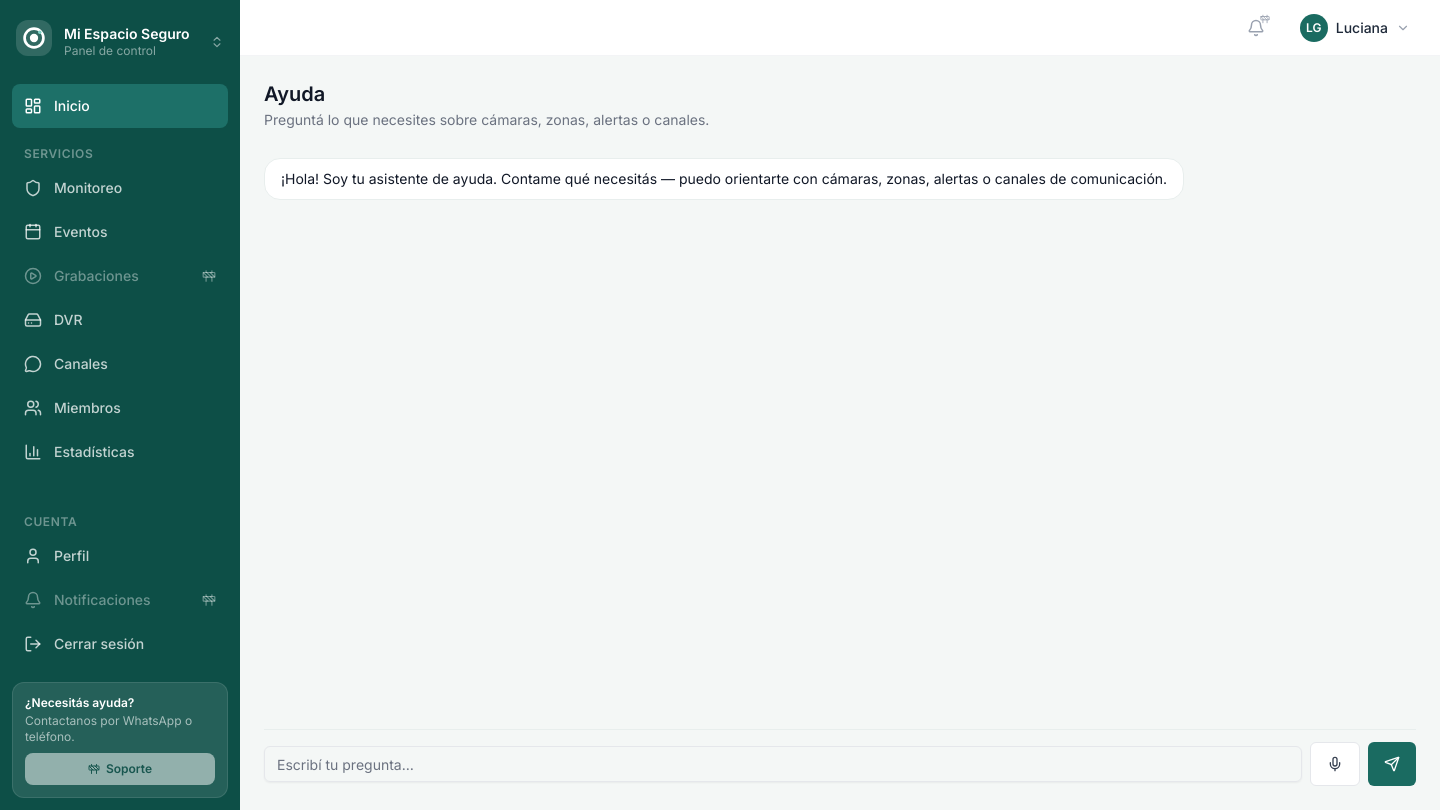
Test: HelpChatPage › sends the mapped conversation without the greeting
This screenshot has width=1440, height=810.
In the field named "Mensaje": (783, 764) [264, 746, 1302, 782], type "¿Cómo configuro una zona?"
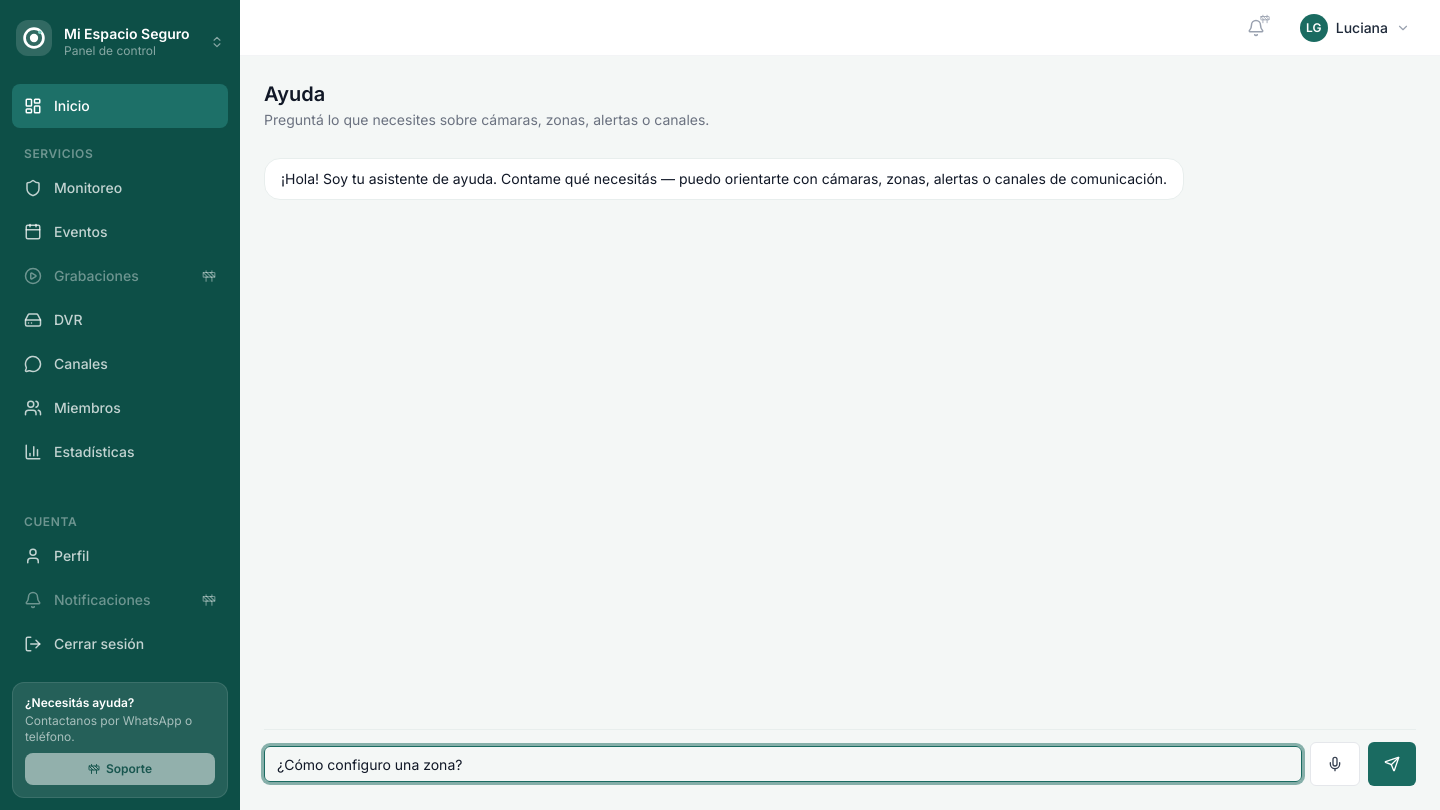
Click the 2nd button named "Enviar": (1392, 764) [1368, 742, 1416, 786]
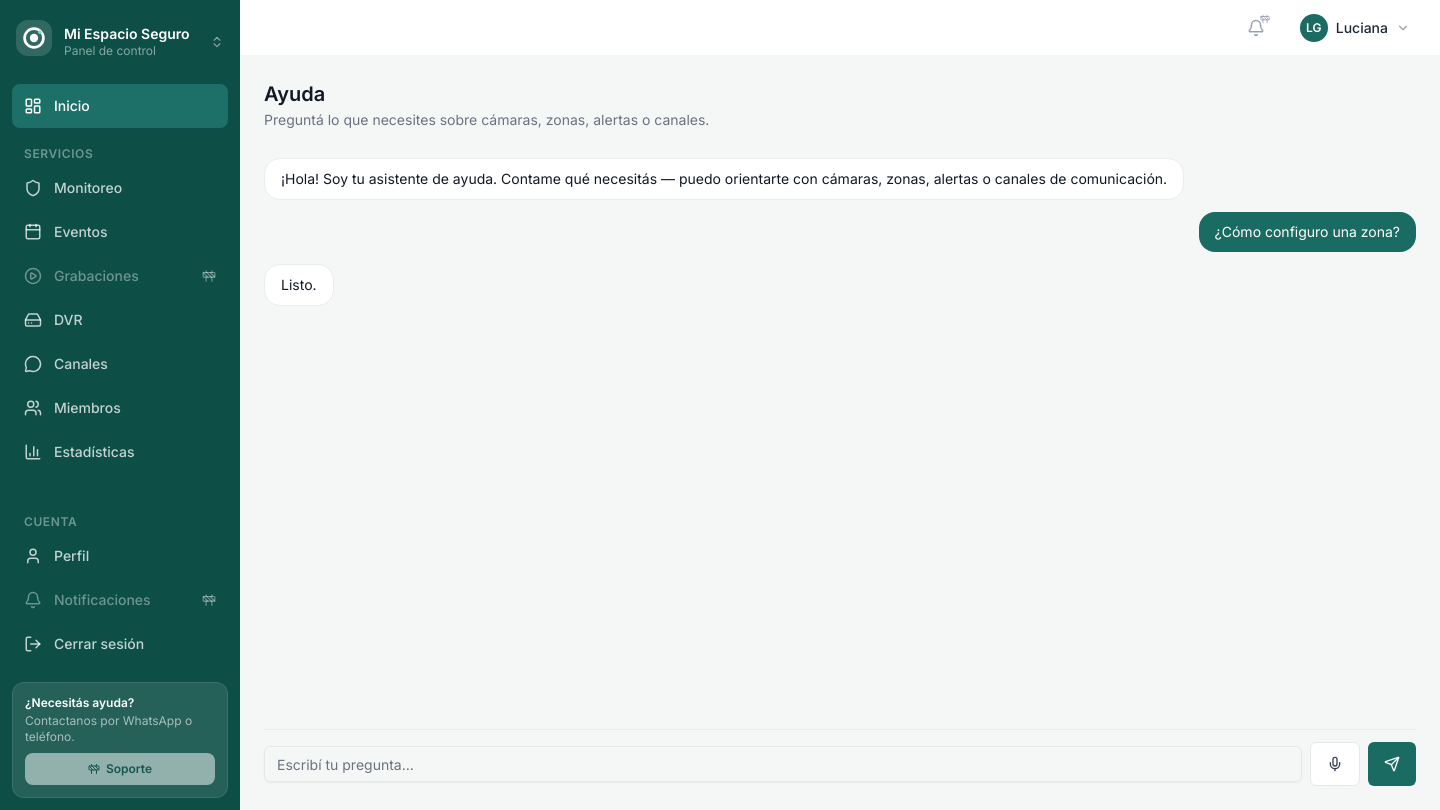
Now the text "Listo." is shown, box [264, 264, 334, 306]
